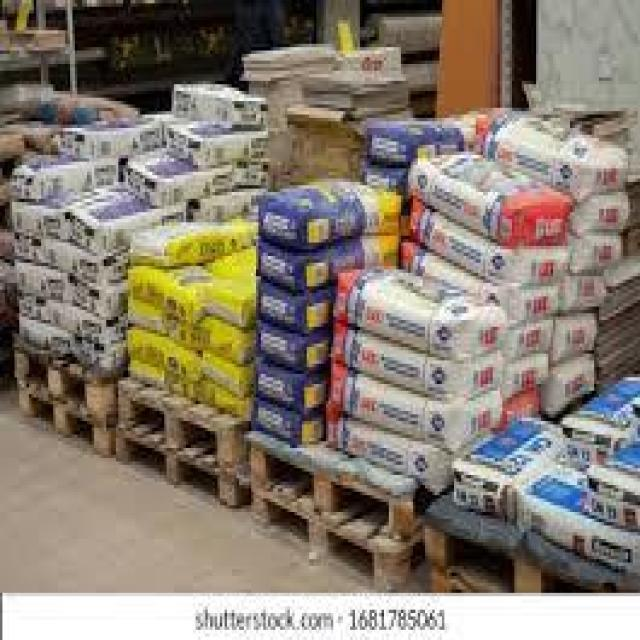gunny_bag: (326, 365, 502, 458), (406, 147, 573, 244), (335, 265, 502, 358), (331, 326, 501, 404), (411, 205, 569, 287), (449, 410, 566, 519), (260, 177, 400, 248), (326, 420, 447, 495), (257, 232, 399, 293), (67, 187, 188, 255), (564, 369, 639, 453), (130, 220, 244, 268), (59, 114, 164, 165), (166, 122, 269, 172), (368, 119, 463, 163), (10, 152, 93, 201), (257, 364, 324, 421), (257, 325, 330, 374), (541, 356, 596, 418), (258, 290, 333, 333), (570, 189, 632, 238), (198, 318, 256, 370), (256, 399, 319, 443), (570, 234, 623, 273), (18, 265, 66, 308), (555, 314, 594, 364), (562, 276, 609, 314), (511, 322, 551, 366), (126, 297, 166, 336), (163, 344, 200, 384), (129, 332, 169, 366)
